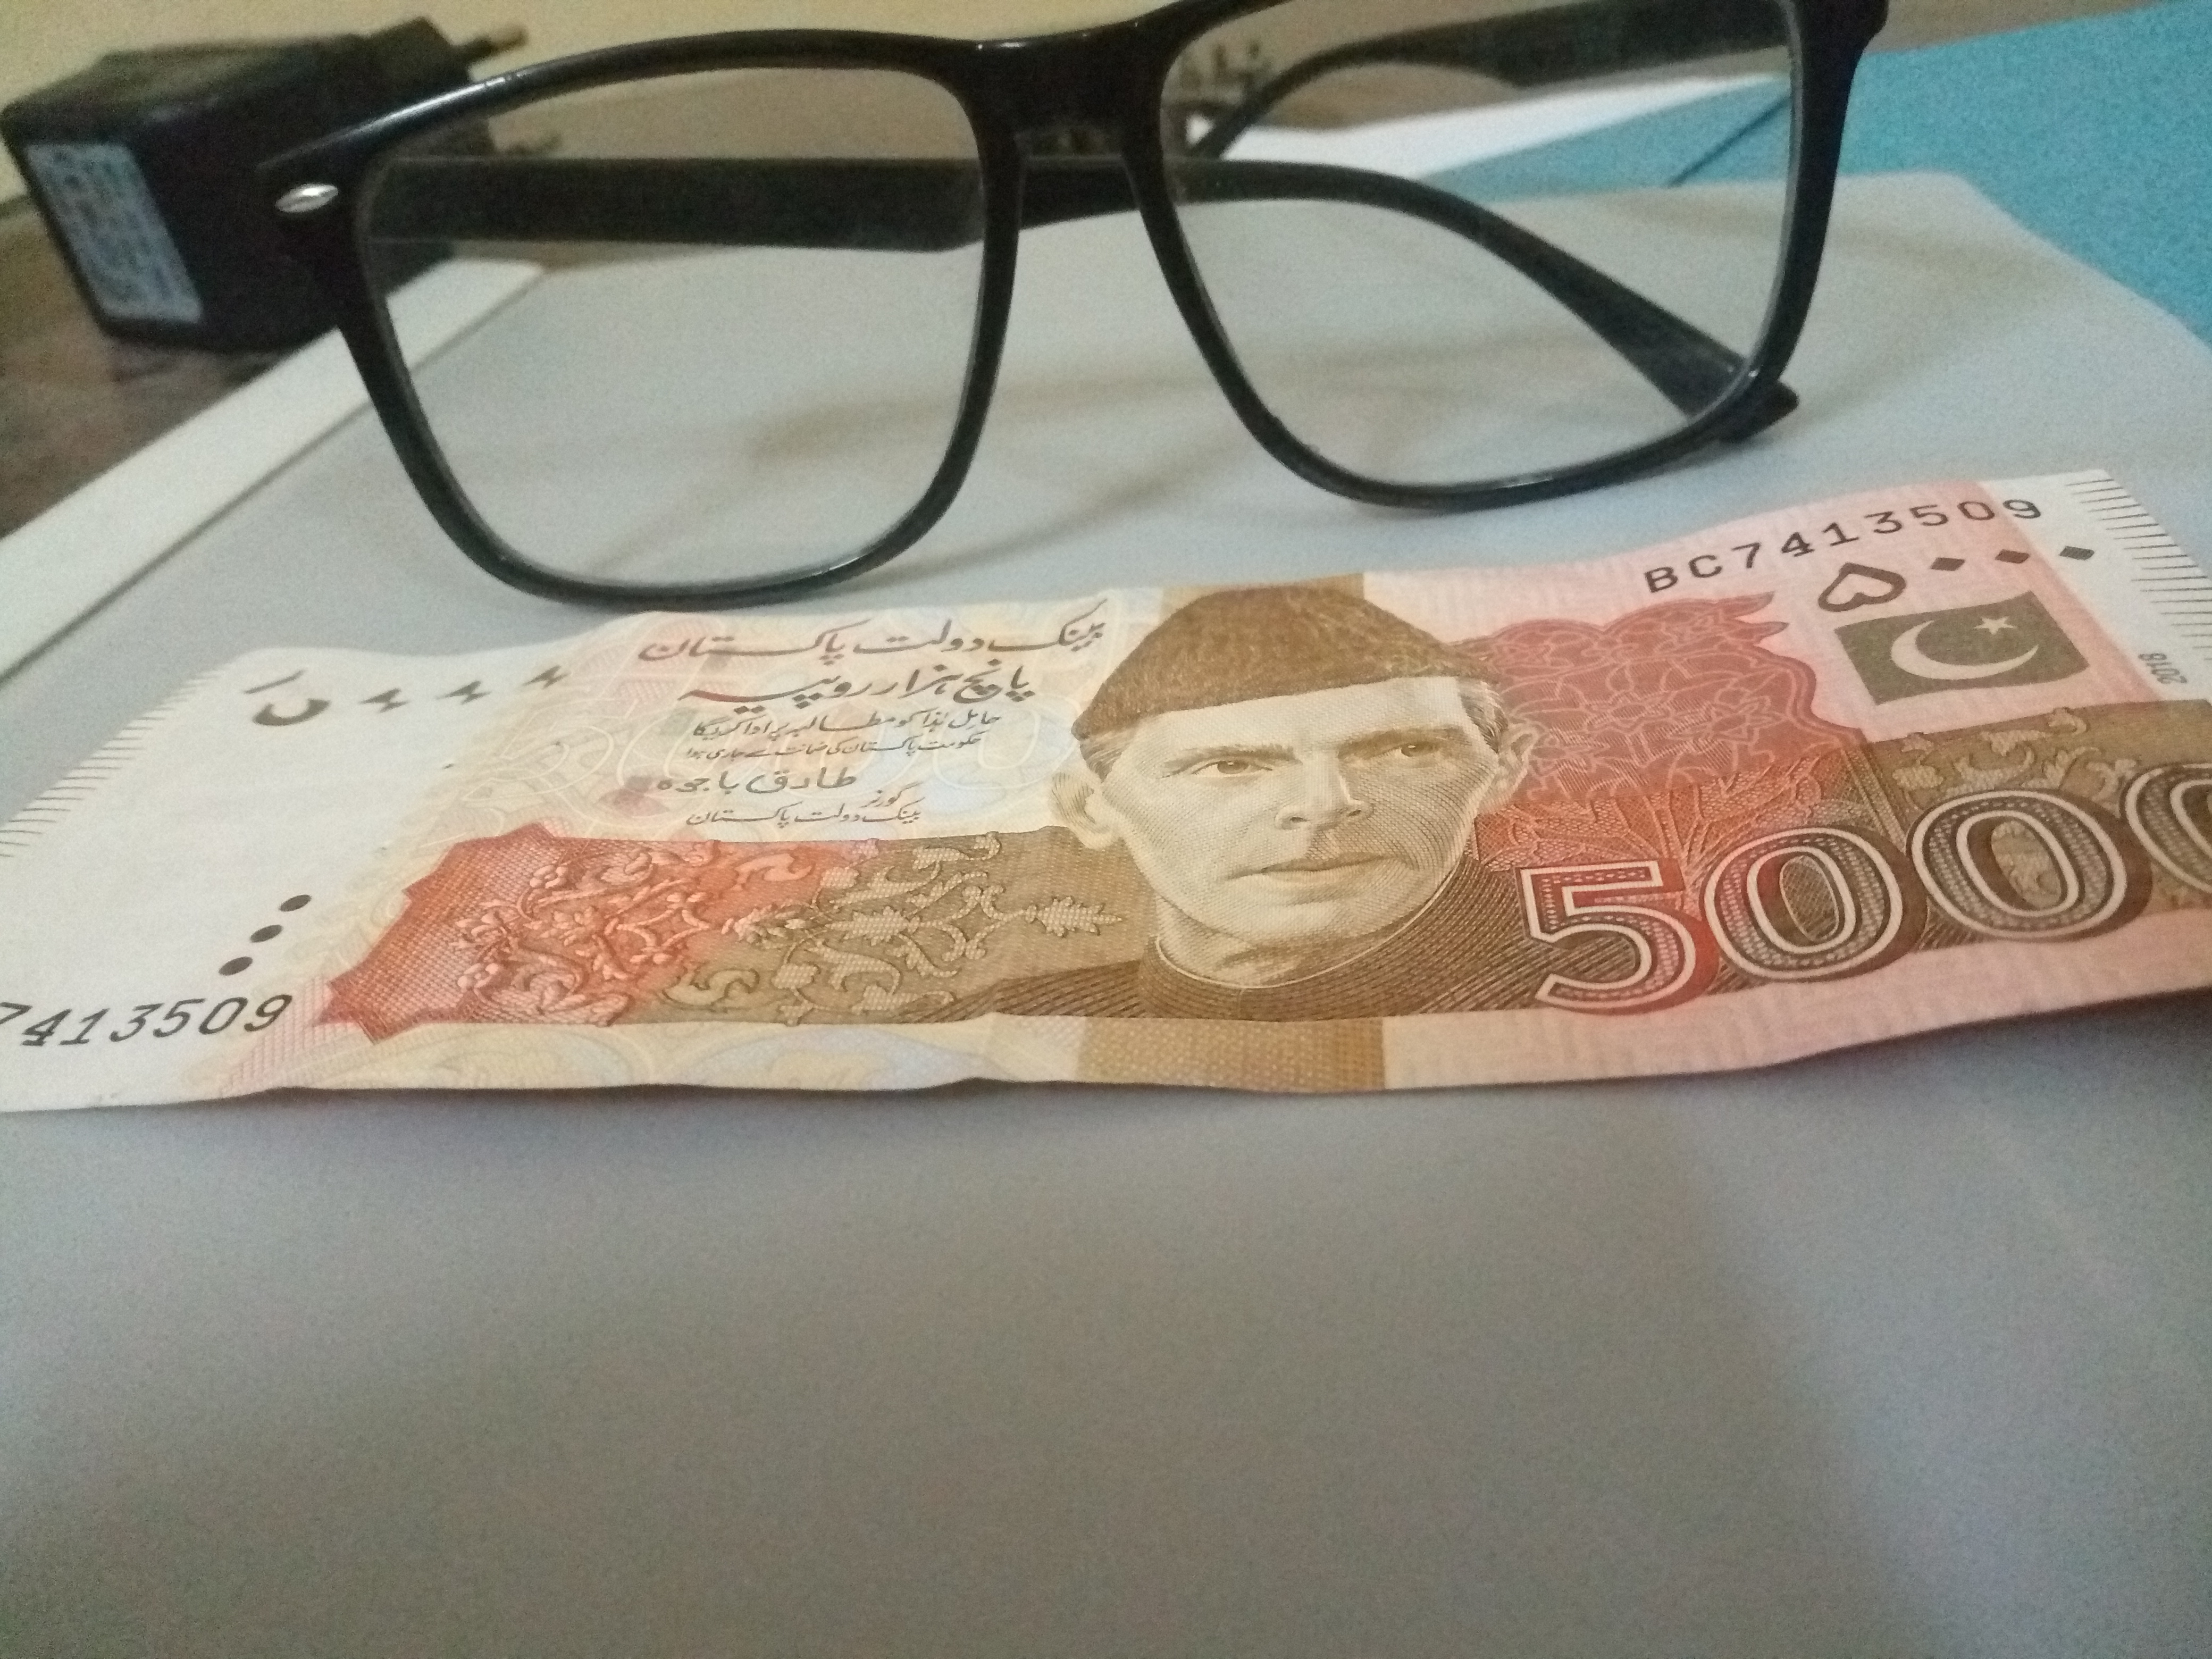5000 rupee: (16, 430, 2203, 1173)
